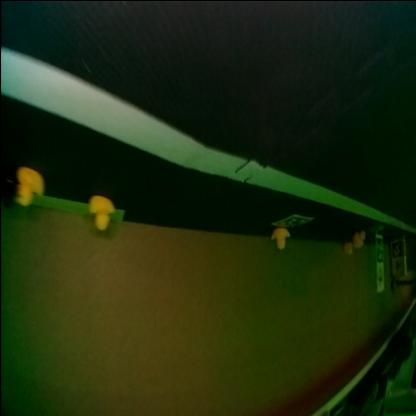Duckie: (15, 168, 44, 206), (89, 195, 115, 229), (271, 228, 289, 250), (353, 230, 365, 248), (344, 243, 352, 255)
Intersection sign: (392, 260, 404, 276)
QR code: (272, 214, 312, 226), (376, 234, 384, 262), (391, 240, 403, 258)
